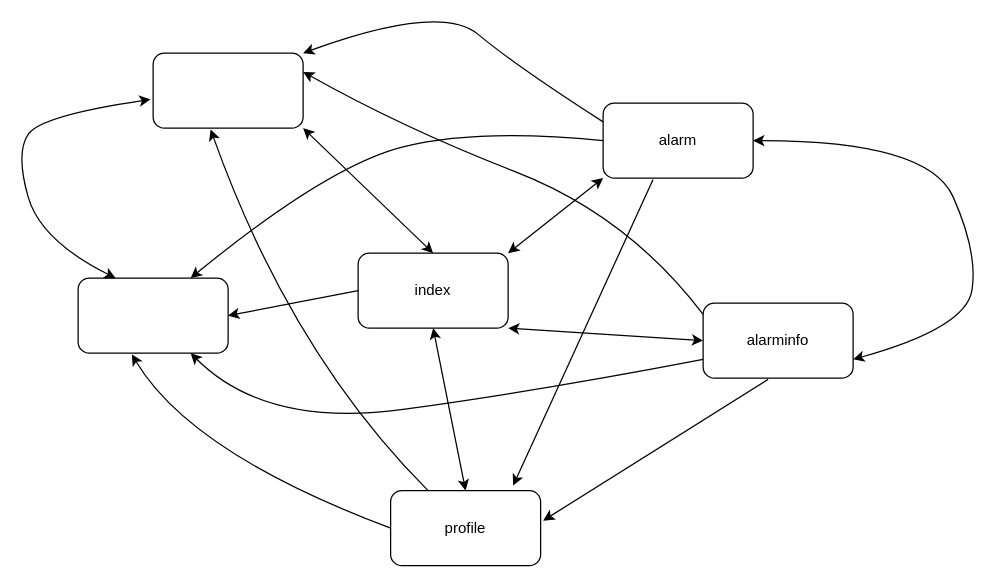
The diagram is 995 pixels wide and 588 high, and some of its shapes have lost their labels. Each missing label, with the centre of its shape:
"login" goes at [227,90].
"signup" goes at [152,315].
